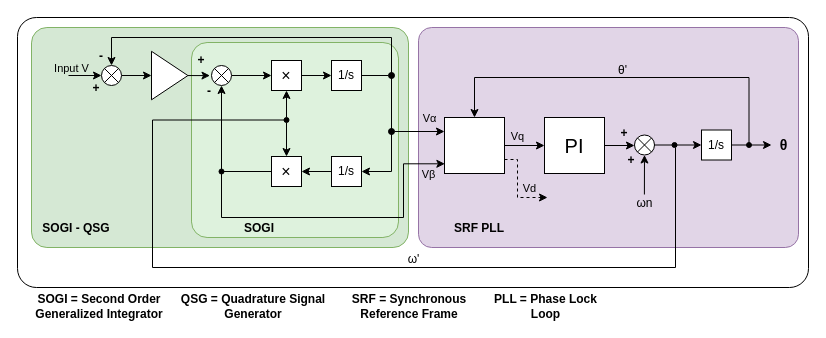
Image size: 826x338. Some labels were removed from this diagram. The centre of each missing label's shape, as x and y in pixels:
Kr: the point at 169,75
αβ to DQ: the point at 474,145
